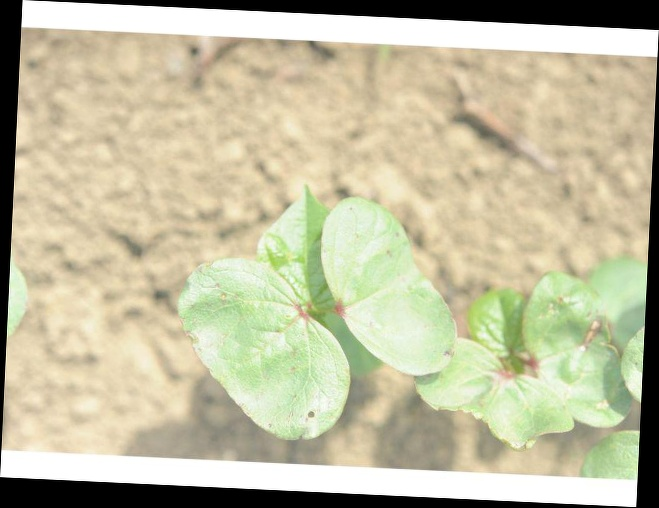cotton: (177, 182, 457, 440), (416, 252, 644, 450)
